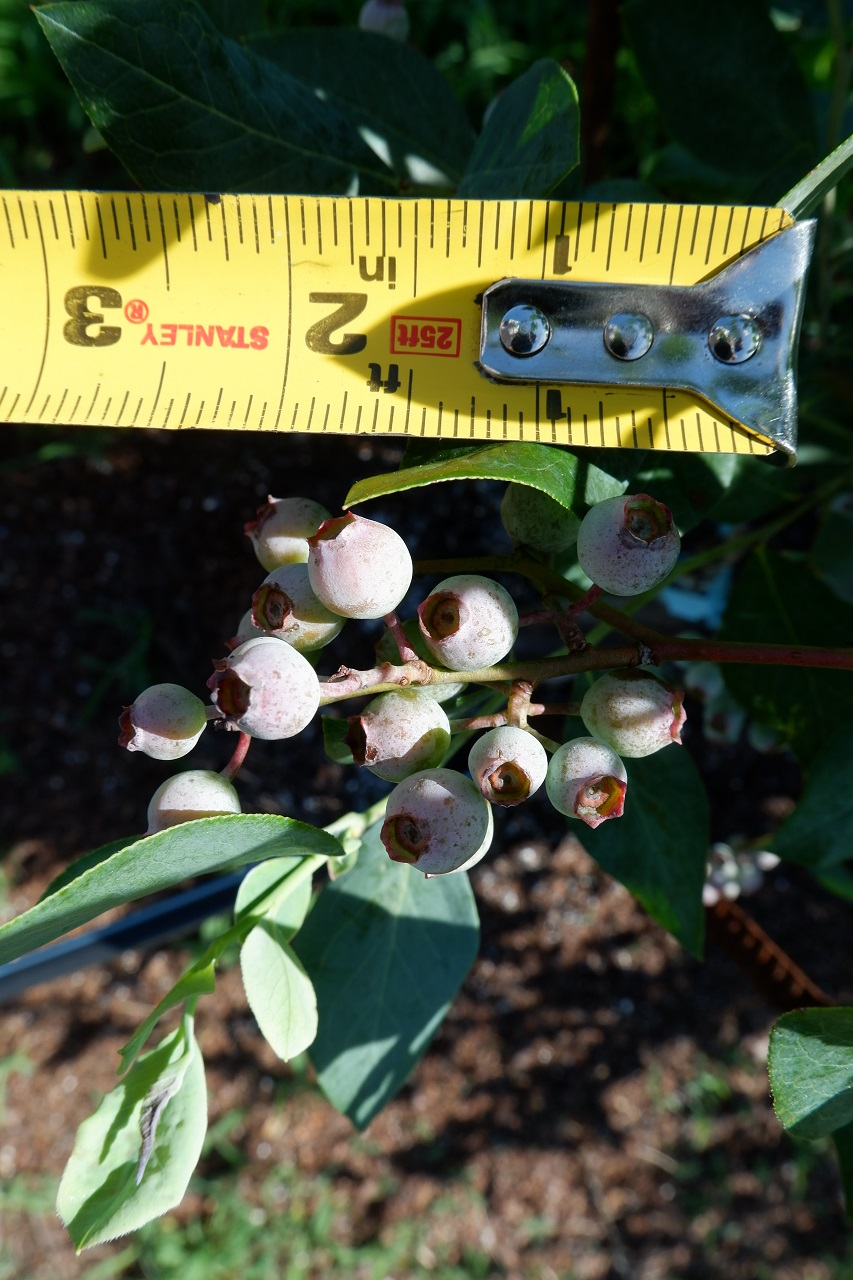Immature: (206, 637, 320, 739), (307, 510, 413, 619), (381, 768, 489, 874), (577, 494, 681, 598), (343, 688, 451, 783), (417, 575, 520, 672), (581, 669, 688, 758), (251, 563, 348, 651), (375, 616, 470, 702), (546, 737, 628, 829), (245, 494, 334, 573), (119, 683, 208, 760), (141, 770, 241, 838), (467, 727, 548, 807), (501, 482, 580, 558), (425, 798, 494, 878), (226, 607, 272, 650)
